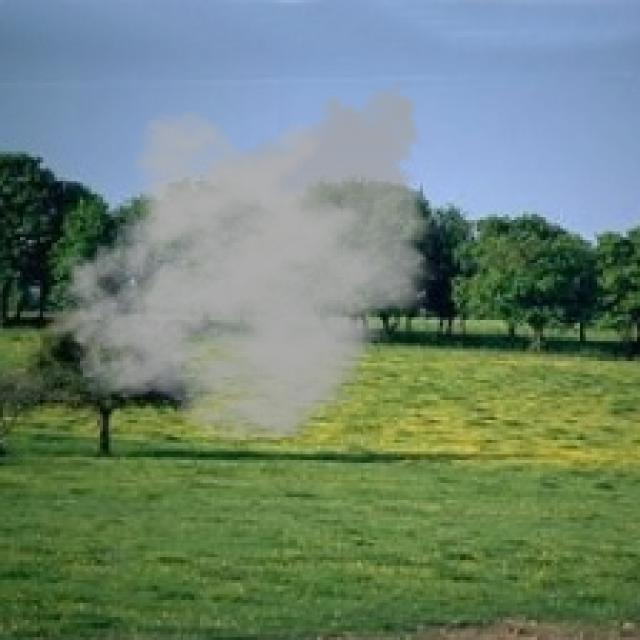Smoke: (46, 71, 443, 446)
